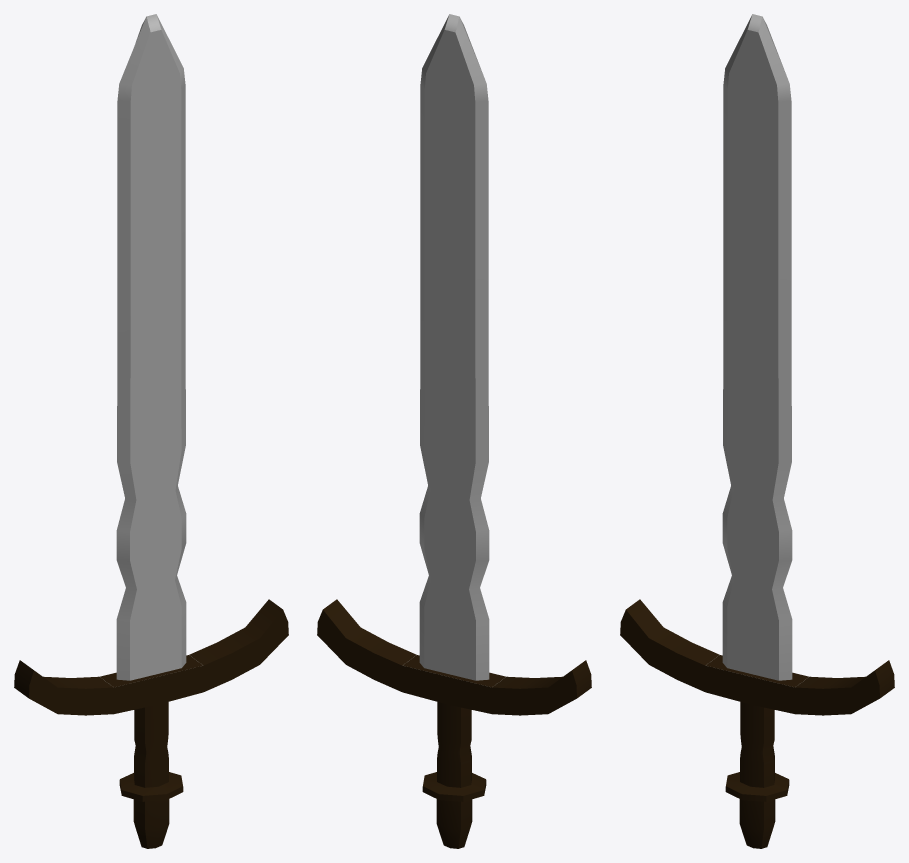
Rendered from sword.fbx.
The picture shows the model from 3 angles, left to right: view 1: azimuth 30°, elevation 25°; view 2: azimuth 150°, elevation 25°; view 3: azimuth 330°, elevation 25°; orthographic projection.
Parts seen in each view (by area): view 1: pCube74; view 2: pCube74; view 3: pCube74.
Boxes of the visible parts, x1,y1,x2,y2 form: pCube74: (14,14,288,848); pCube74: (317,14,591,848); pCube74: (620,14,894,848).
Bounding box in the file's own units: 20.58 × 62.79 × 4.24.
